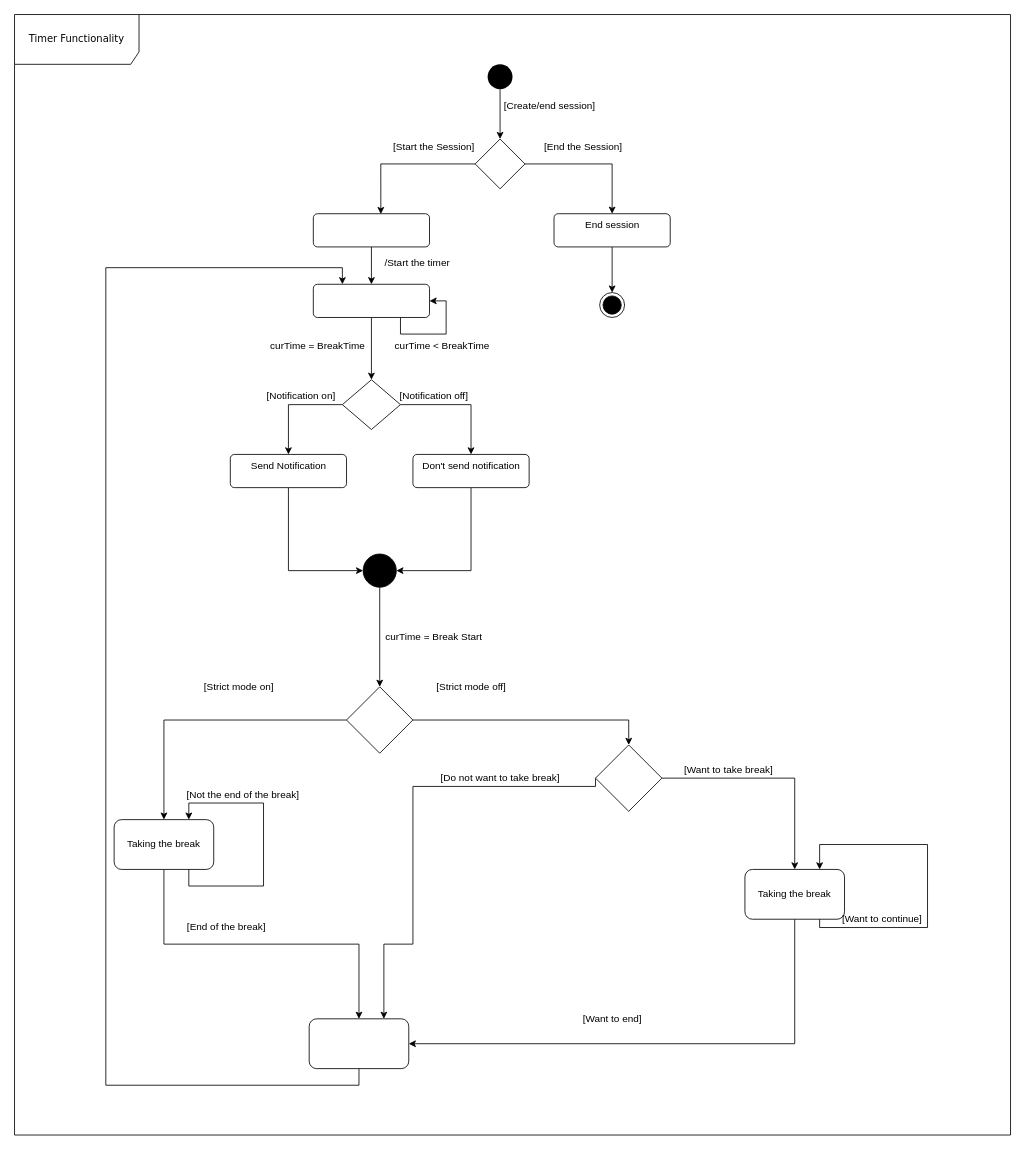
The diagram is 1025 pixels wide and 1150 high, and some of its shapes have lost their labels. The centre of each missing label's shape, as x and y in pixels:
End Break: the point at 358,1043
new Session Created: the point at 371,230
Timer Running: the point at 371,300
